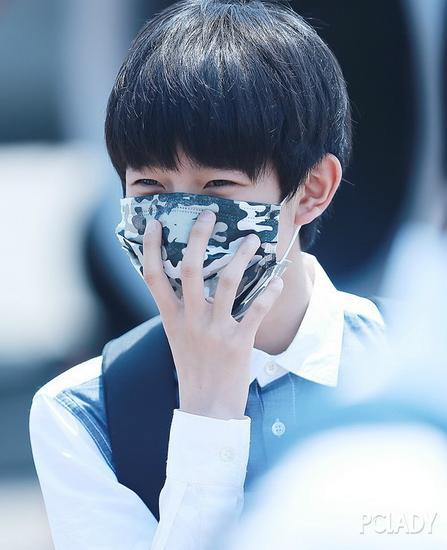OK: (118, 148, 276, 306)
